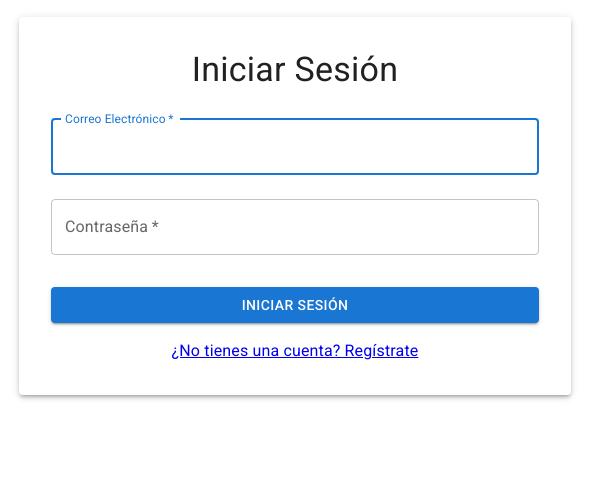
Test: Componente InicioSesion › muestra error cuando el login falla
The width and height of the screenshot is (591, 481).
Type "test@example.com" into the field labelled "Correo Electrónico *" at (295, 147), box 51,119 -> 539,175
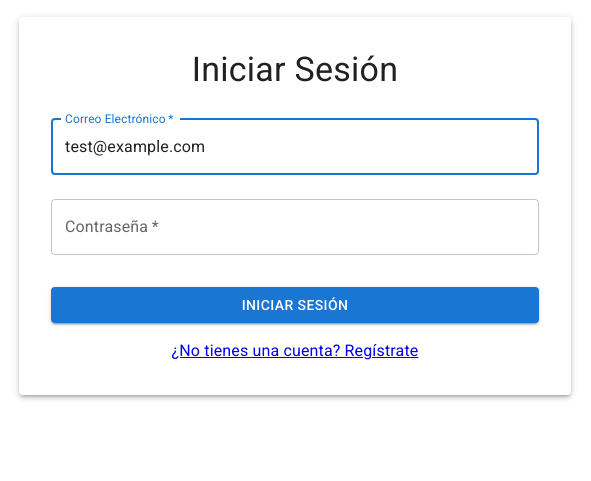
Type "wrongpassword" into the password field labelled "Contraseña *" at (295, 227), box 51,199 -> 539,255
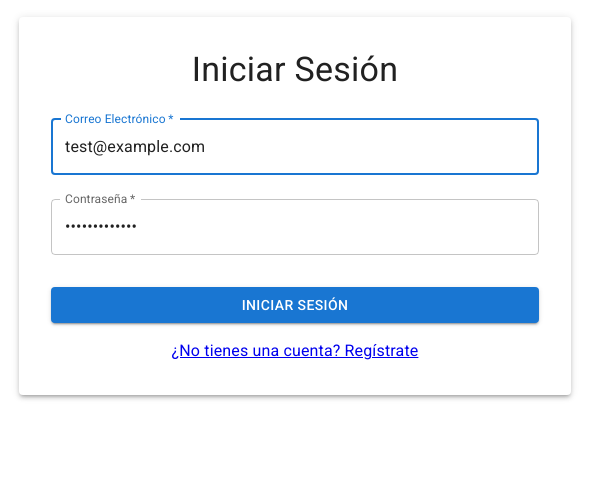
Click the button "Iniciar Sesión" at (295, 305), box 51,287 -> 539,323
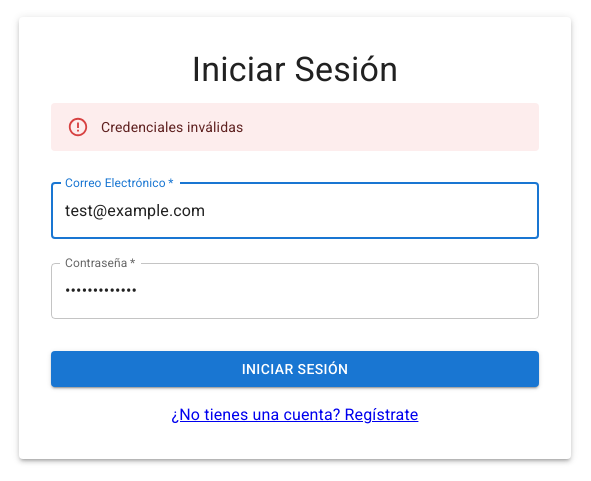
expect the text "Credenciales inválidas" is shown: met, box 101,119 -> 243,135
expect the message "Credenciales inválidas" is shown: met, box 51,103 -> 539,151
